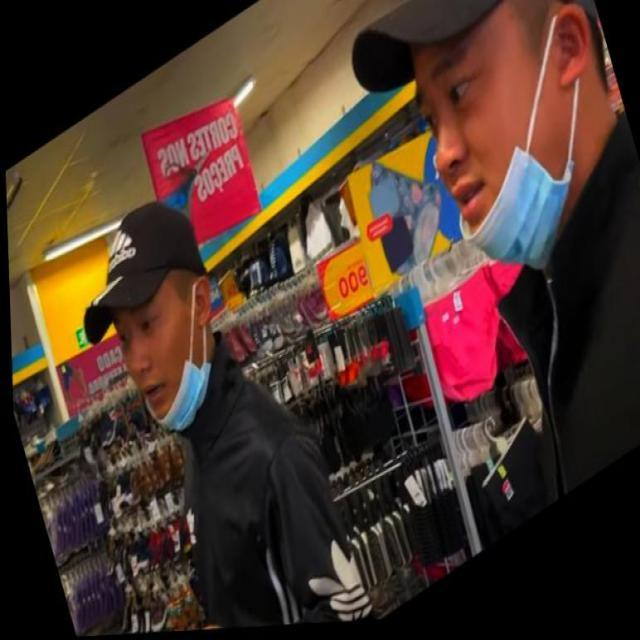hairnet: (412, 15, 572, 314), (114, 274, 212, 446)
